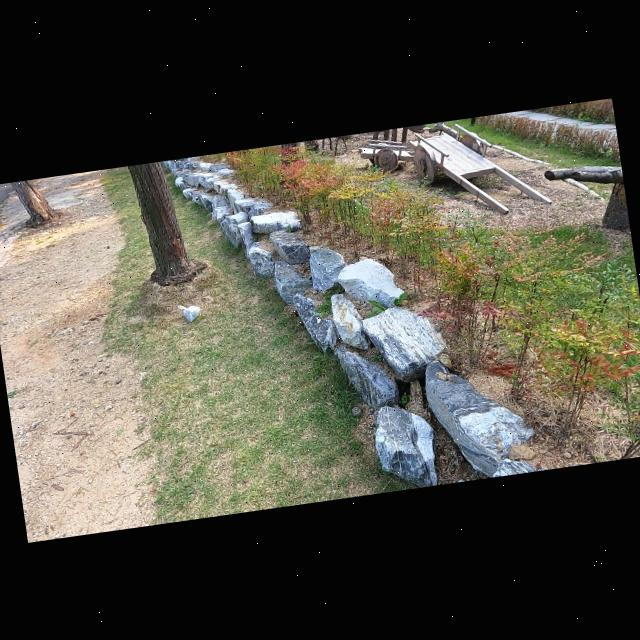trash: (176, 302, 202, 324)
